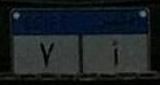7: (39, 40, 56, 69)
alif: (110, 37, 121, 70)
